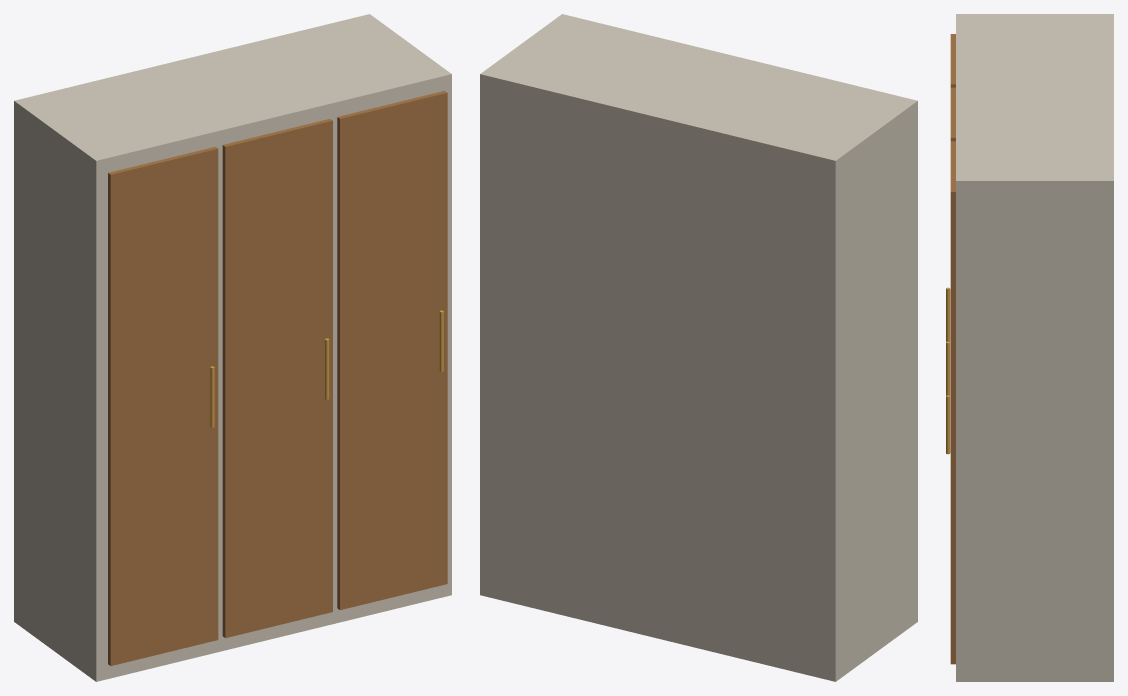
File: wardrobe.glb
3 views of the same model, side by side, from view 1: azimuth 30°, elevation 25°; view 2: azimuth 150°, elevation 25°; view 3: azimuth 270°, elevation 25° (orthographic). The views are drawn at different scales.
Size of the model in its own units: 1.5 by 2.1 by 0.638.
